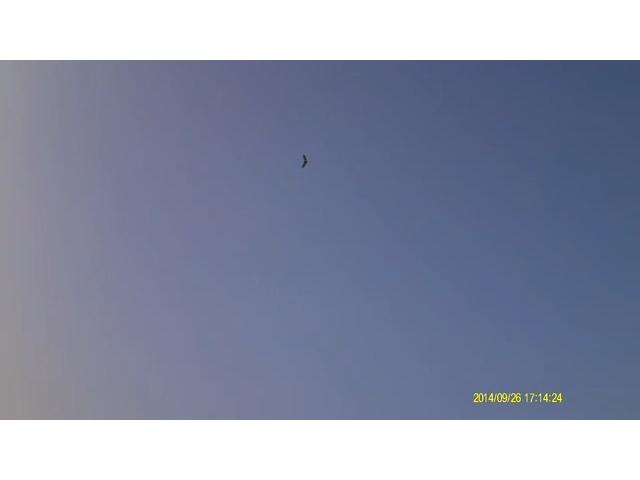Anti-Drone: (291, 148, 319, 178)
